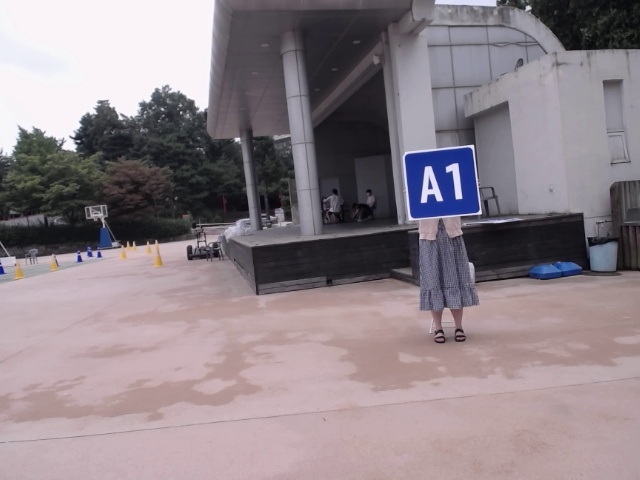delivery_a1: (404, 146, 481, 220)
